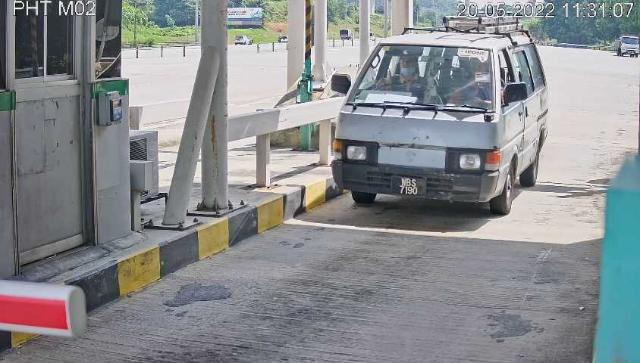License_Plate: (392, 176, 429, 201)
van: (333, 21, 549, 216)
